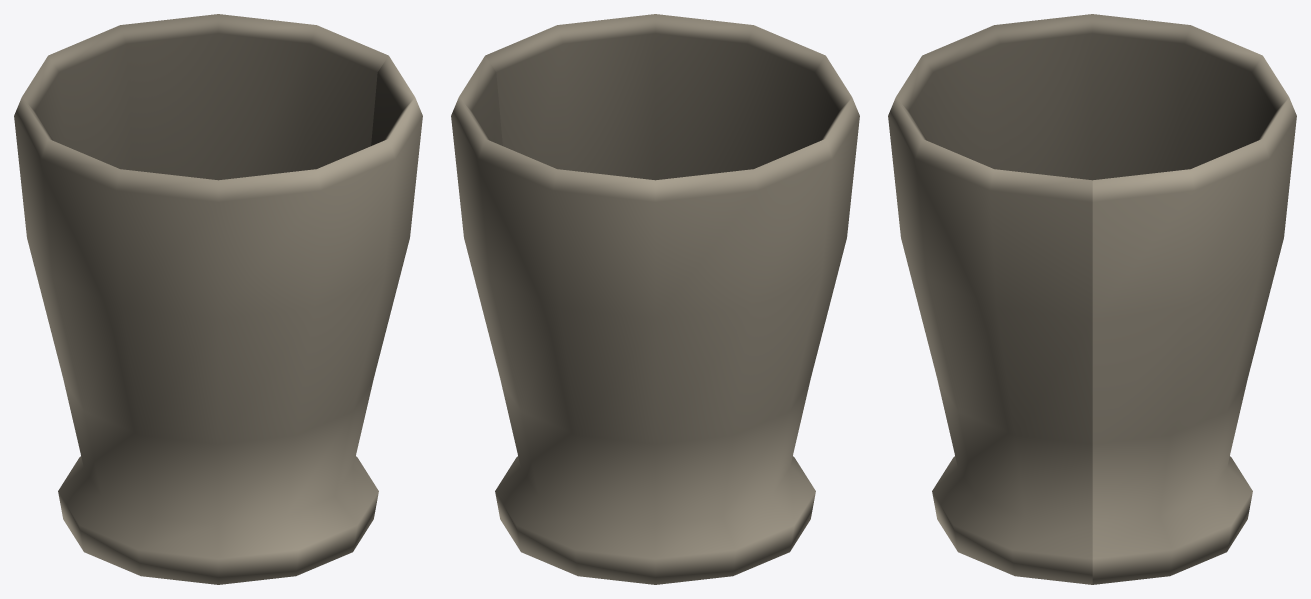
Rendered from prop_item_cup.glb.
3 views of the same model, side by side, from view 1: azimuth 30°, elevation 25°; view 2: azimuth 150°, elevation 25°; view 3: azimuth 270°, elevation 25° (orthographic).
Visible parts, largest first — view 1: ItemCupSoft; view 2: ItemCupSoft; view 3: ItemCupSoft.
Boxes of the visible parts, x1,y1,x2,y2 form: ItemCupSoft: (14,14,422,584); ItemCupSoft: (451,14,859,584); ItemCupSoft: (888,14,1296,584).
Size of the model in its own units: 0.079 by 0.09 by 0.079.
